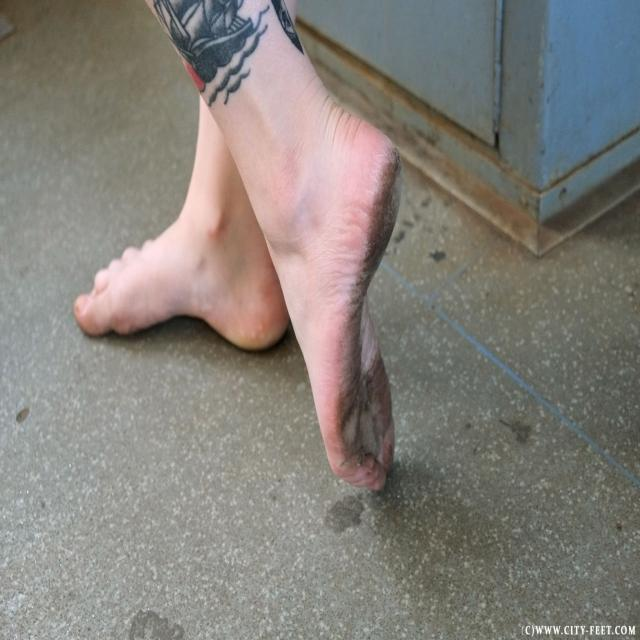Barefoots: (314, 111, 403, 492), (74, 220, 292, 351)
